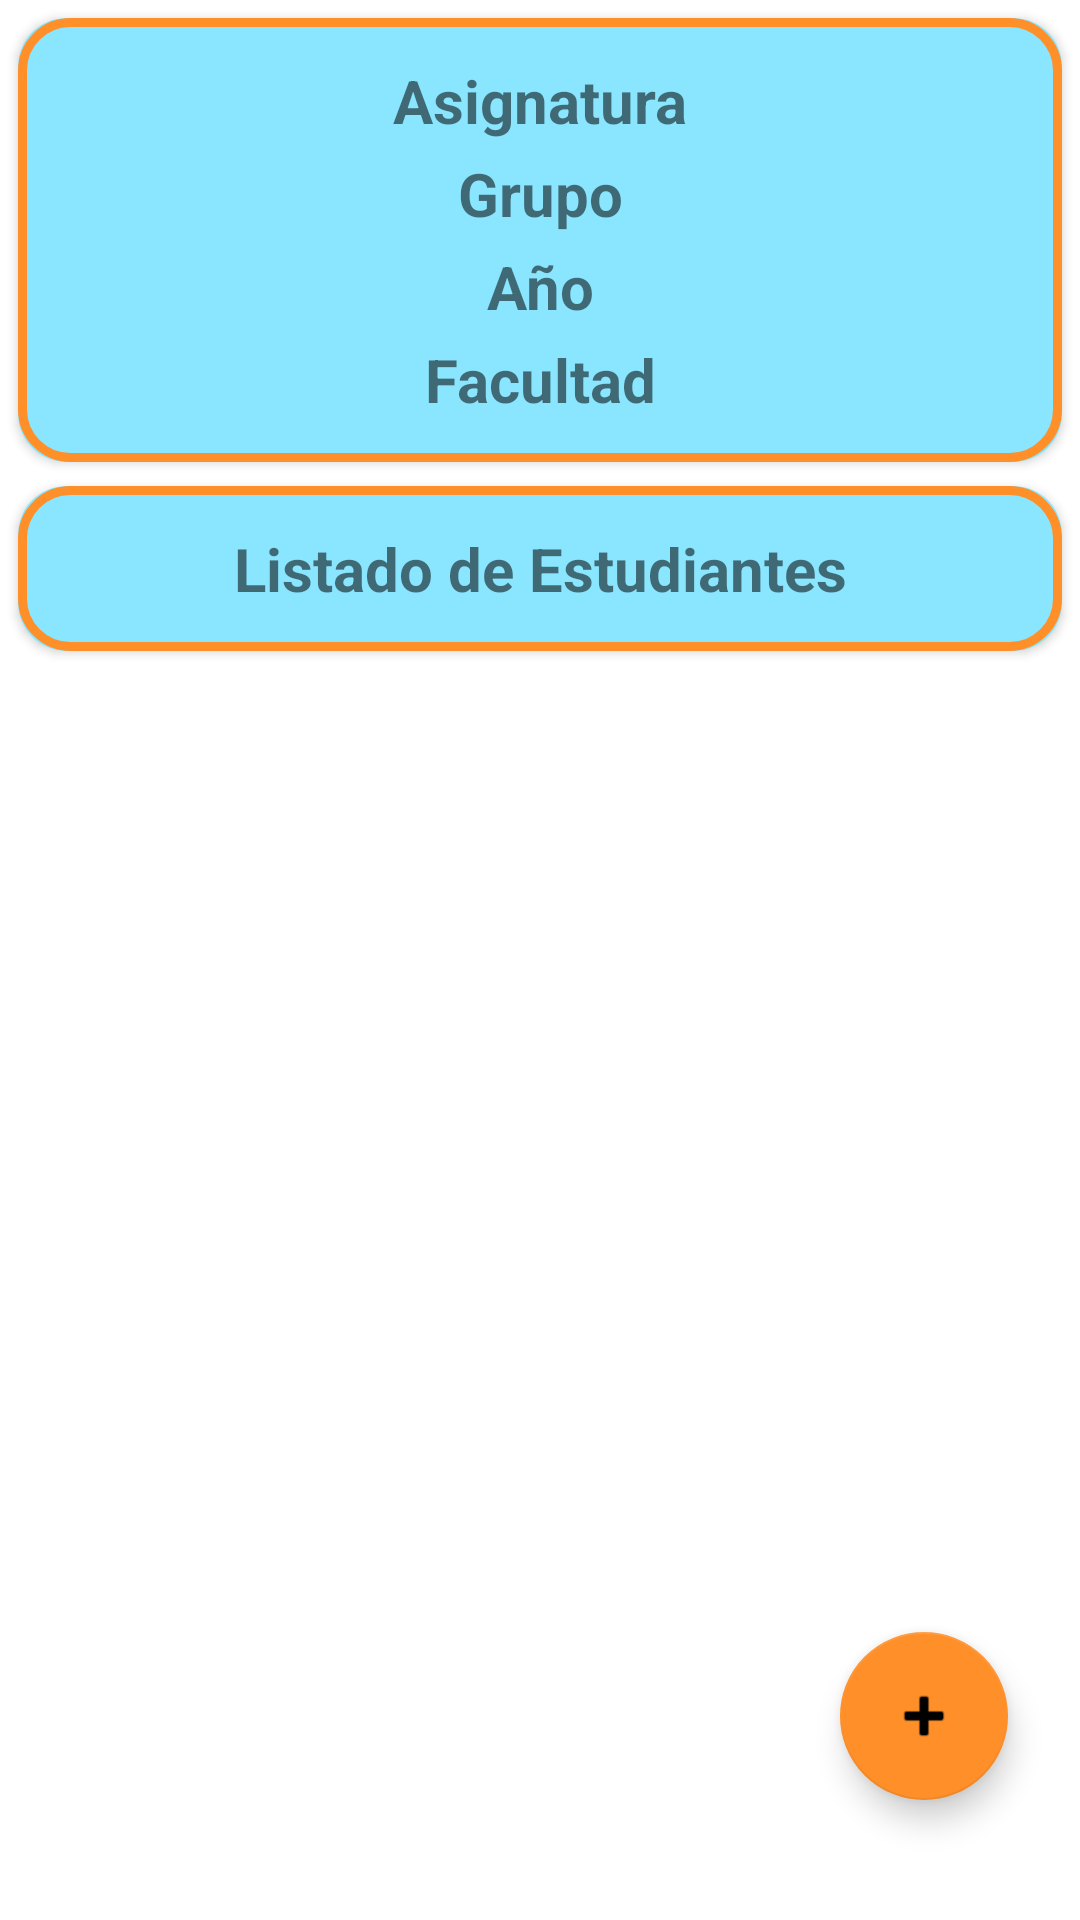

Icon bounding boxes for this 1080*1920 phone screenshot, format {"left": x1, "top": y1, "right": x2, "bottom": y2}:
add: {"left": 840, "top": 1632, "right": 1008, "bottom": 1800}
